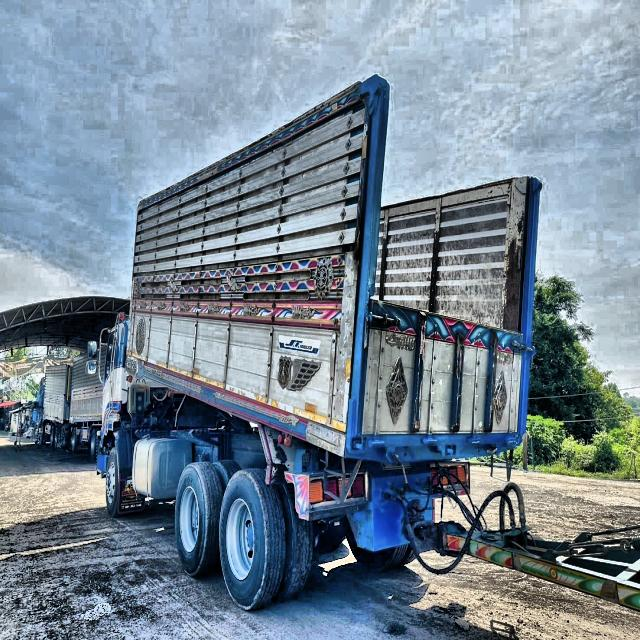trailer: (85, 56, 579, 609)
